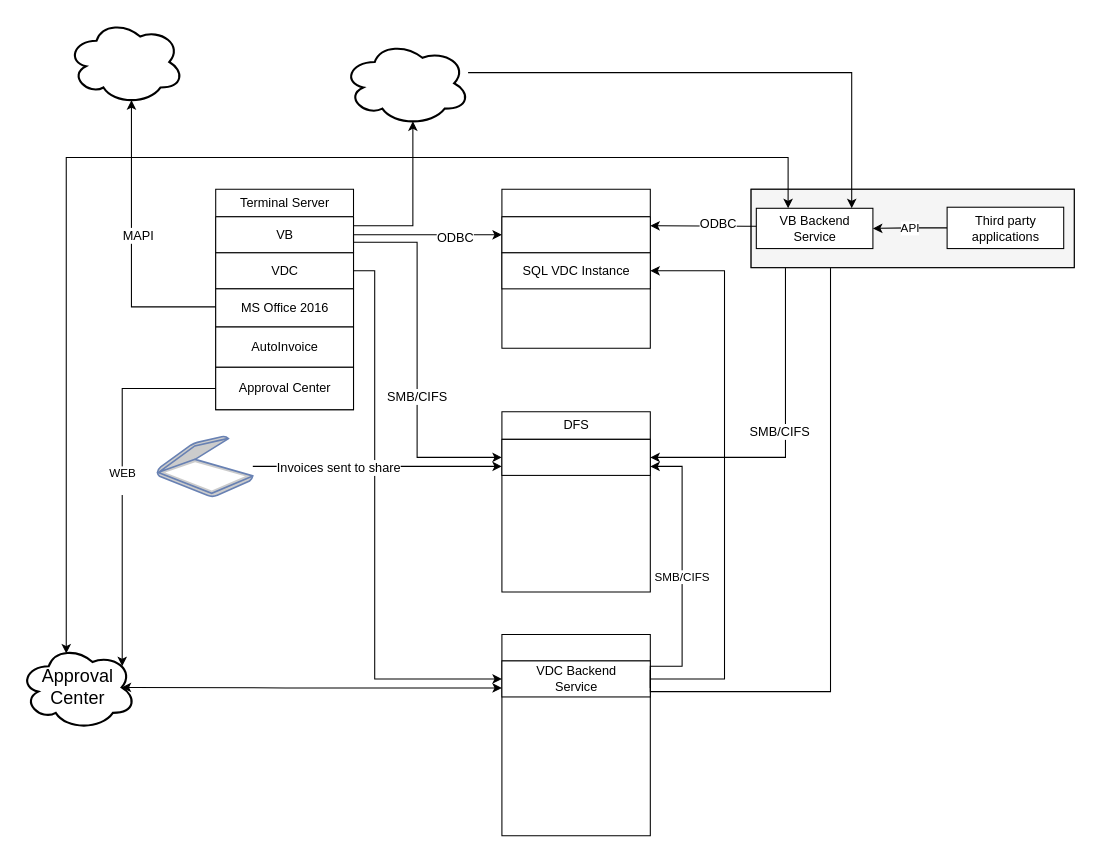
The diagram is 1093 pixels wide and 854 high, and some of its shapes have lost their labels. The box of each missing label's shape, as (x1, y1, x2, y2) in pixels:
Application Server: (501, 633, 650, 836)
Auto Invoice: (341, 39, 471, 126)
File Share: (501, 438, 650, 475)
Office 365: (66, 18, 184, 105)
SQL Server: (501, 188, 650, 348)
SQL VB Instance: (501, 216, 650, 253)
